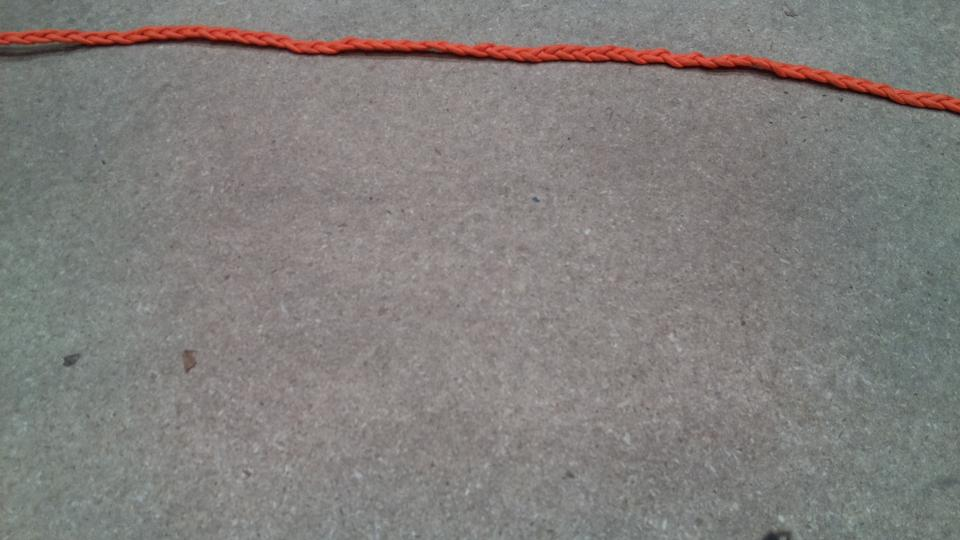rope: (1, 23, 959, 119)
